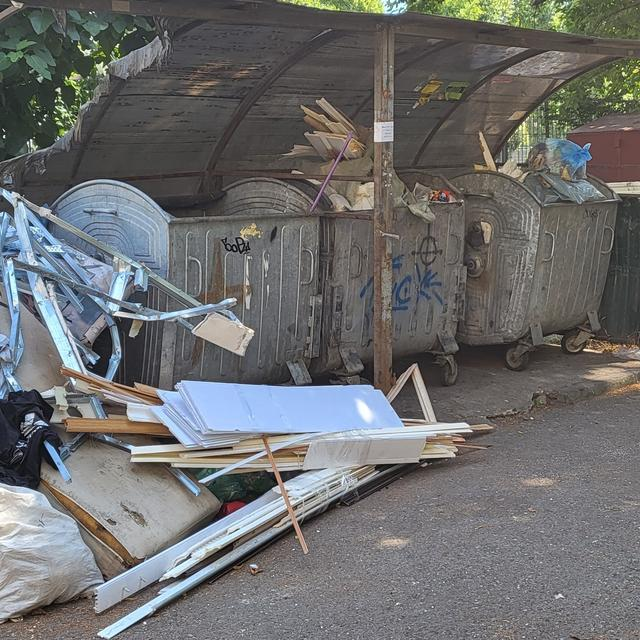Trash_Can_Empty: (46, 170, 319, 390)
Trash_Can_Full: (281, 95, 465, 370), (467, 138, 621, 344)
